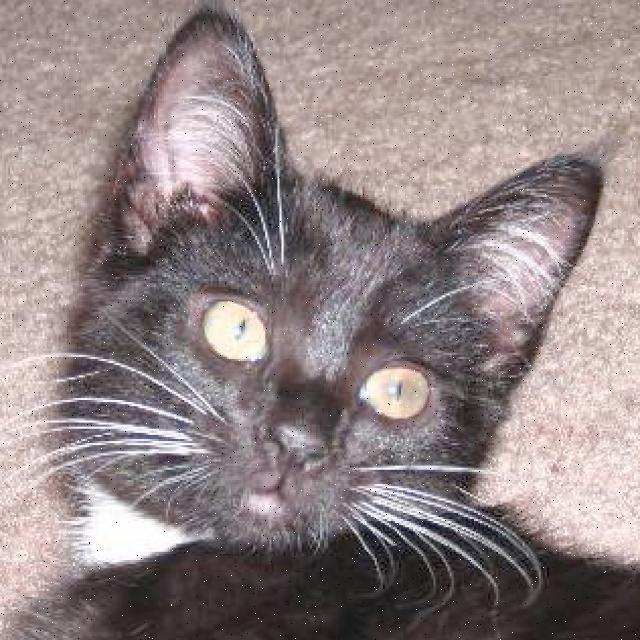Cat: (55, 2, 616, 568)
